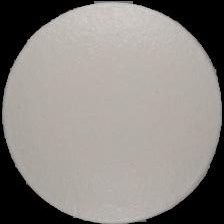51248-151: (0, 0, 224, 224)
